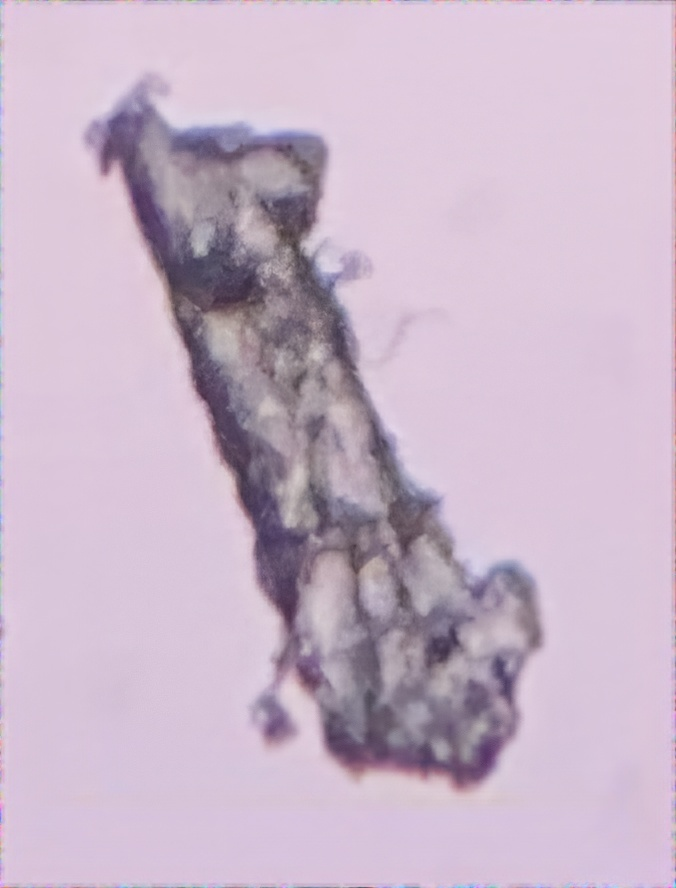microplastic: (79, 65, 562, 805)
